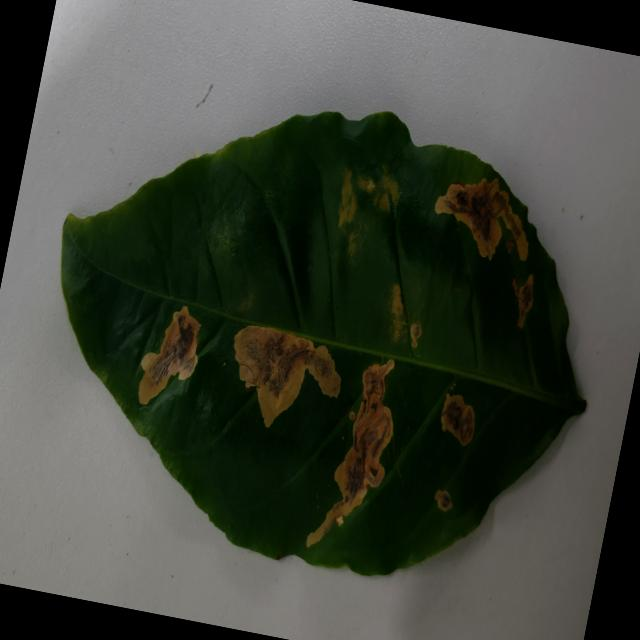PengorokDaunKopi: (306, 359, 394, 547), (234, 326, 341, 427), (435, 178, 528, 261), (139, 306, 200, 404), (357, 167, 400, 212), (441, 394, 474, 445), (338, 168, 357, 228), (512, 274, 533, 328), (390, 284, 405, 342), (435, 490, 453, 512), (411, 321, 422, 348)
